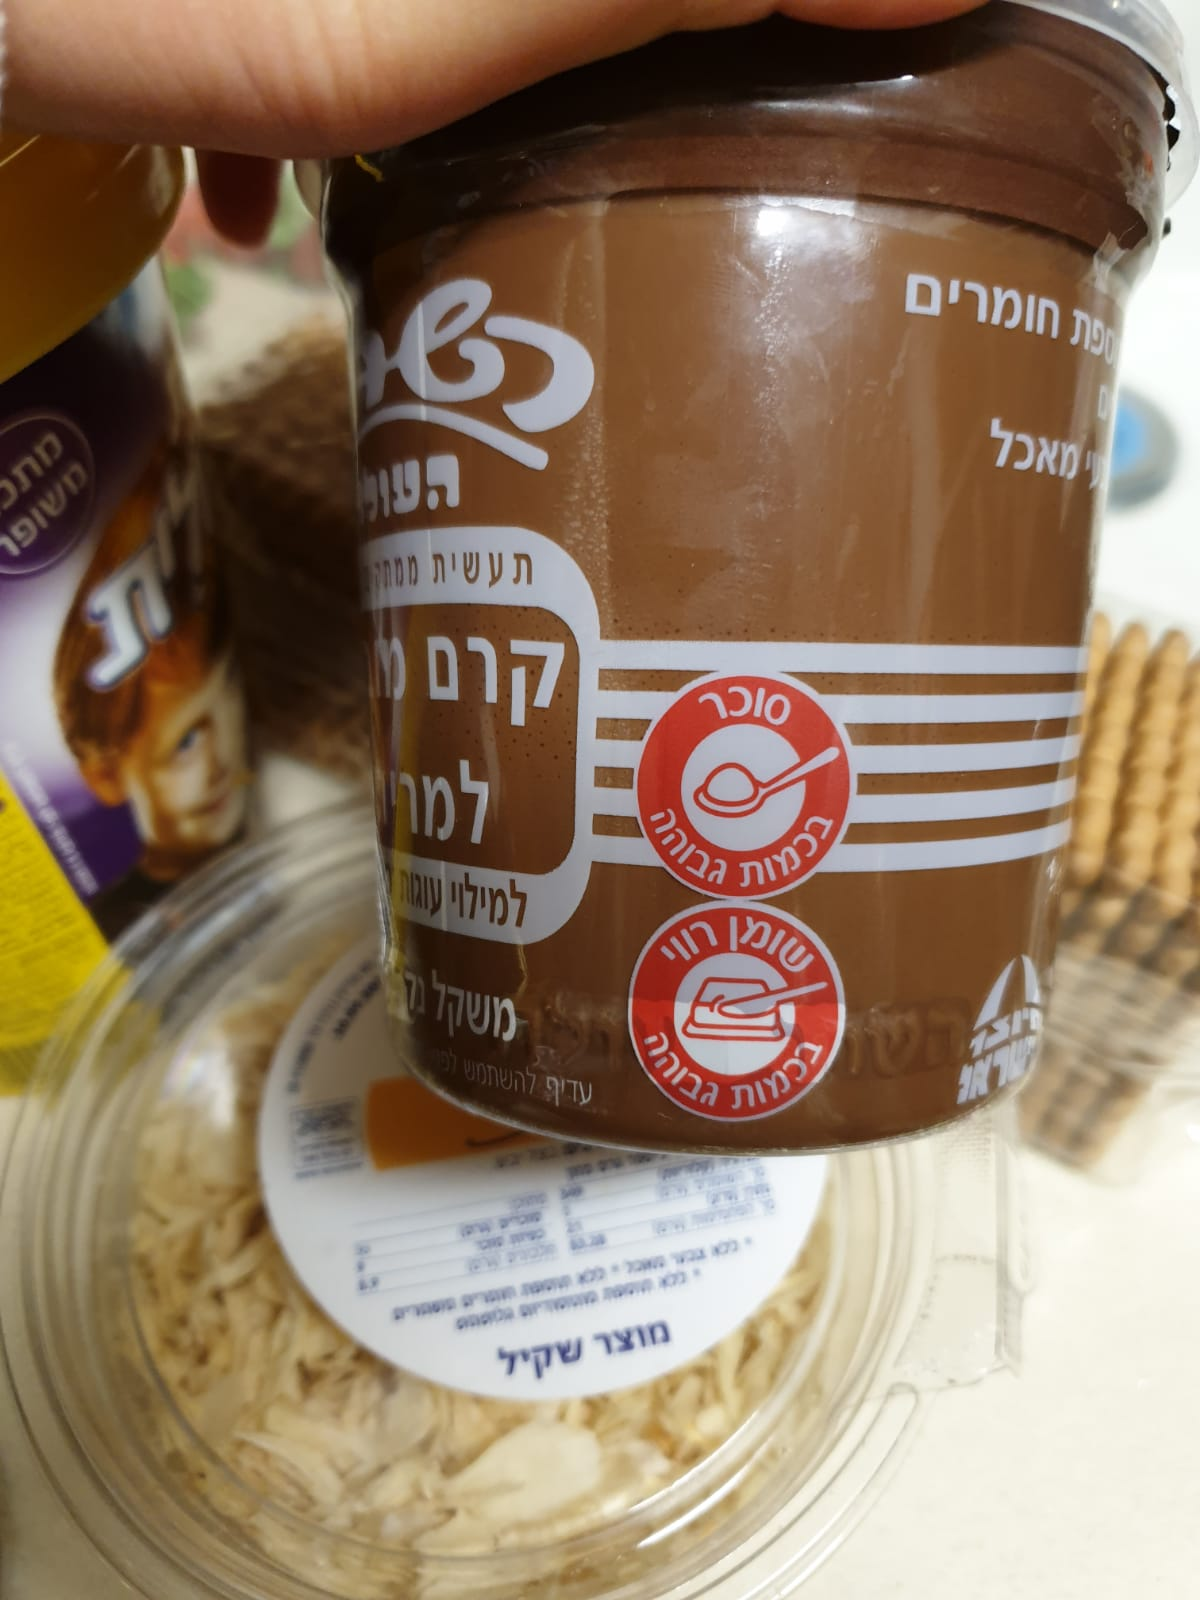fat: (626, 903, 846, 1126)
sugar: (632, 668, 857, 905)
